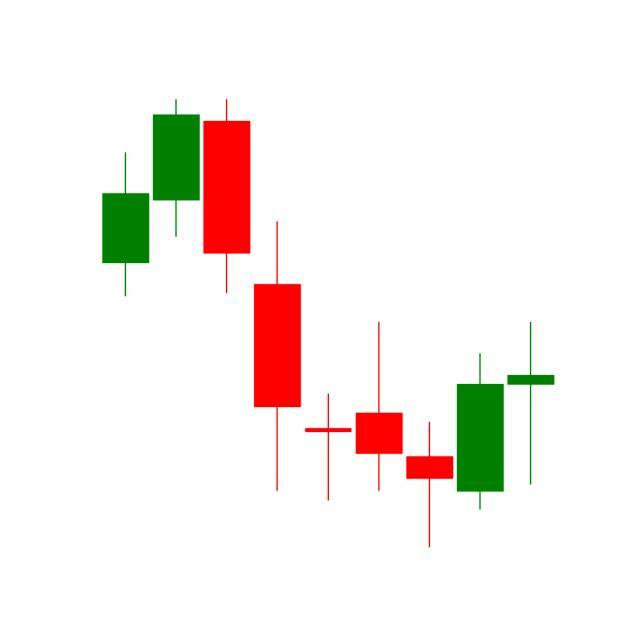Three Line Strike: (303, 318, 507, 549)
